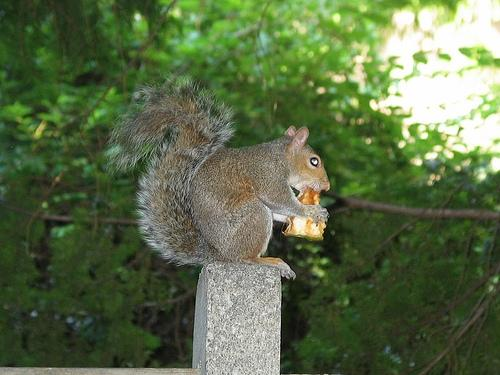apple: (282, 187, 326, 242)
